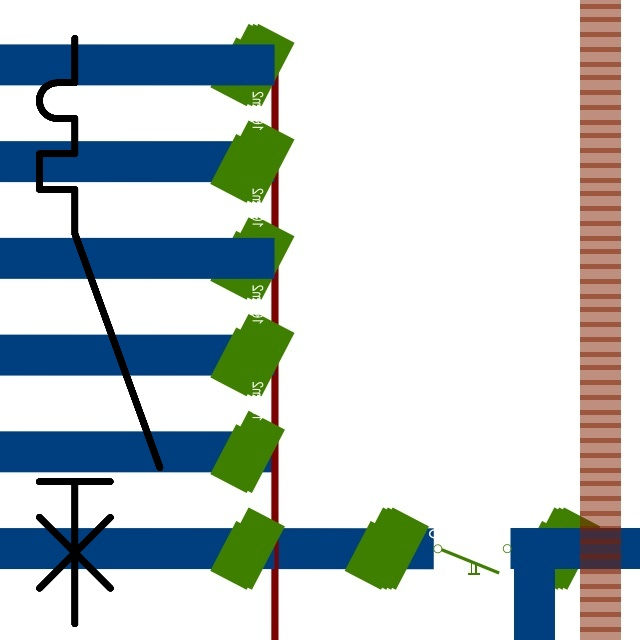interruptor_termomagnetico: (24, 23, 174, 638)
